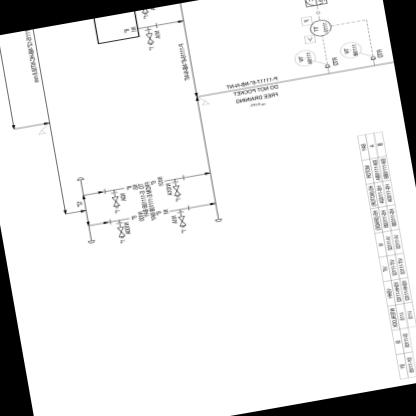LMI: (308, 16, 332, 36)
TAG: (302, 0, 330, 7)
